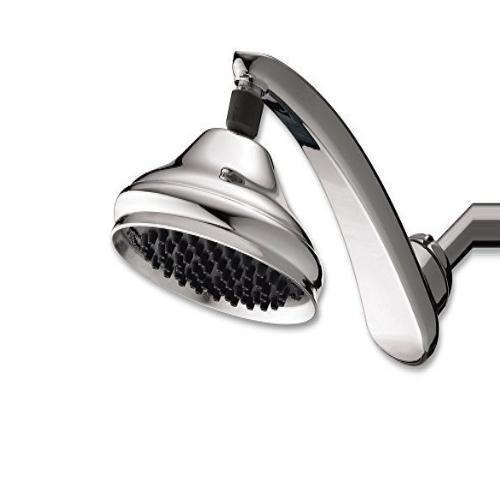Ducha: (119, 29, 499, 374)
